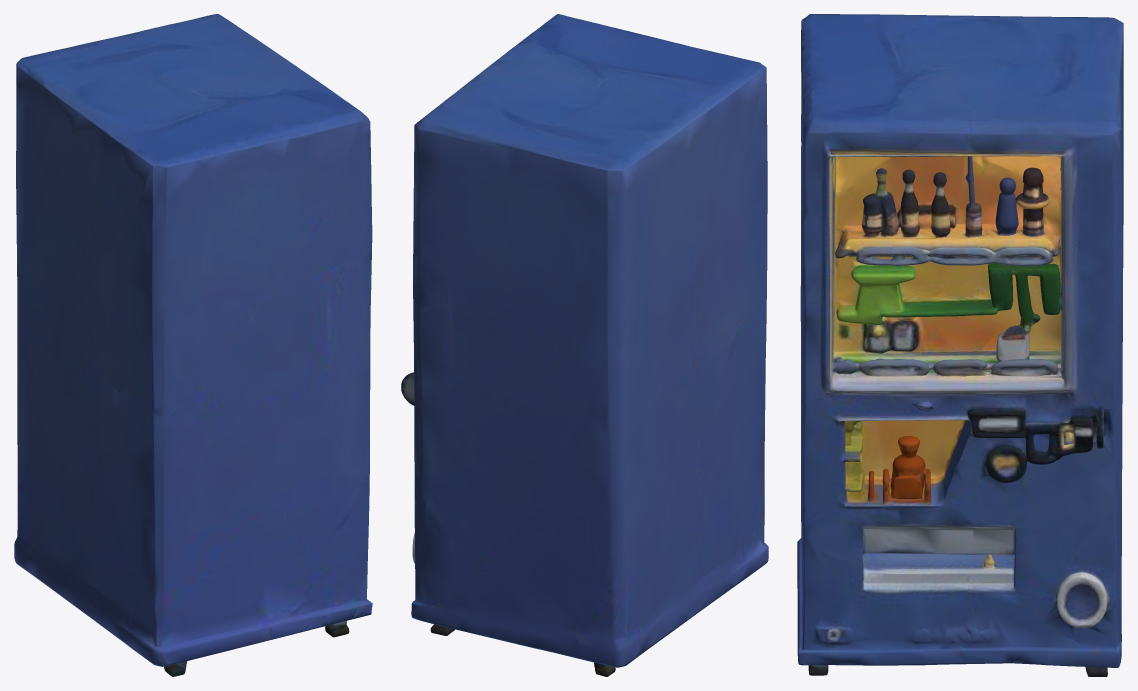
File: vending-web.glb
3 renders of one model, left to right at view 1: azimuth 30°, elevation 25°; view 2: azimuth 150°, elevation 25°; view 3: azimuth 270°, elevation 25°, orthographic. The views are drawn at different scales.
Parts seen in each view (by area): view 1: tripo_node_281b2953-e34a-4a48-92a6-efa0b49d9e11; view 2: tripo_node_281b2953-e34a-4a48-92a6-efa0b49d9e11; view 3: tripo_node_281b2953-e34a-4a48-92a6-efa0b49d9e11.
Boxes of the visible parts, x1,y1,x2,y2 form: tripo_node_281b2953-e34a-4a48-92a6-efa0b49d9e11: (14, 14, 372, 676); tripo_node_281b2953-e34a-4a48-92a6-efa0b49d9e11: (401, 14, 768, 676); tripo_node_281b2953-e34a-4a48-92a6-efa0b49d9e11: (797, 14, 1123, 676).
Size of the model in its own units: 0.4691 by 0.9999 by 0.5261.
Materials: 1 (1 with a texture image).
